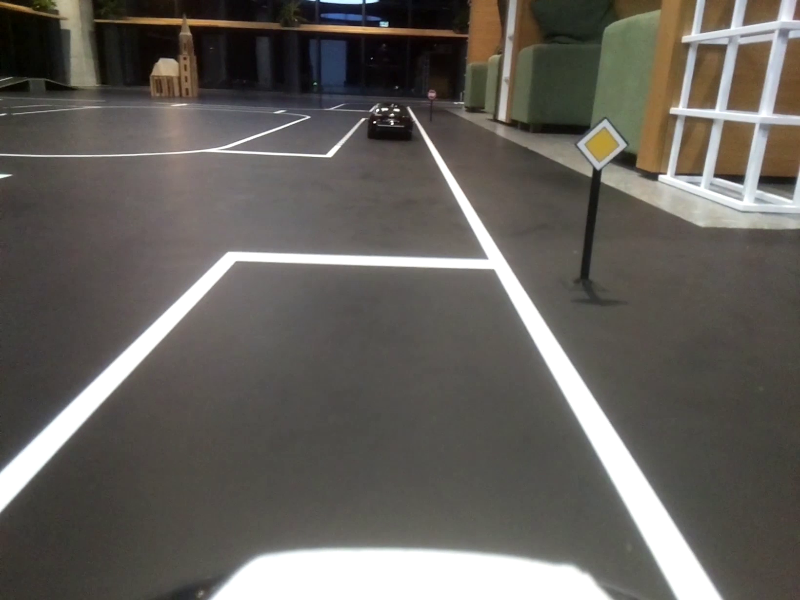priority: (577, 117, 627, 173)
